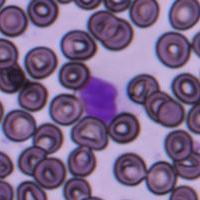M: (78, 70, 125, 127)
